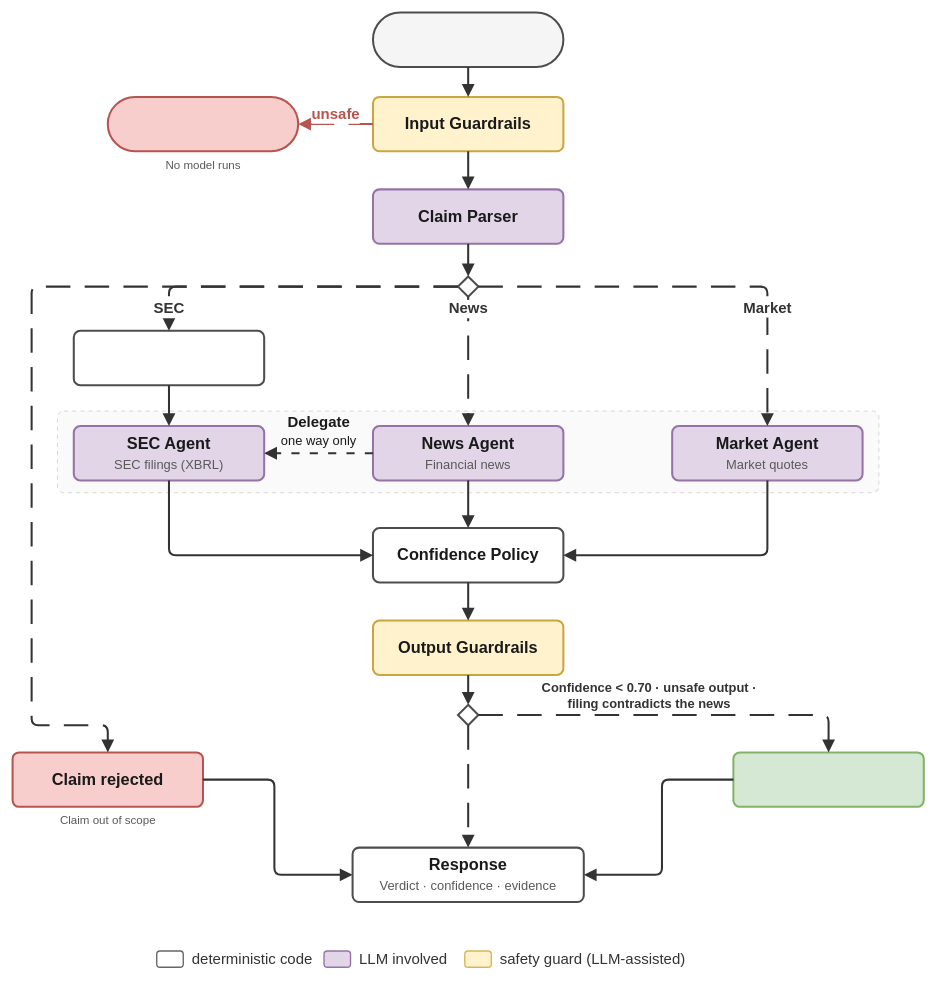
Image size: 936x981. Some labels were removed from this diagram. Here are the shapes that lost their labels. From the top down, the centre of each, then its label:
At point (468, 39): "Claim".
At point (202, 124): "Not accepted".
At point (168, 357): "Period Resolver".
At point (828, 779): "Human Review".
